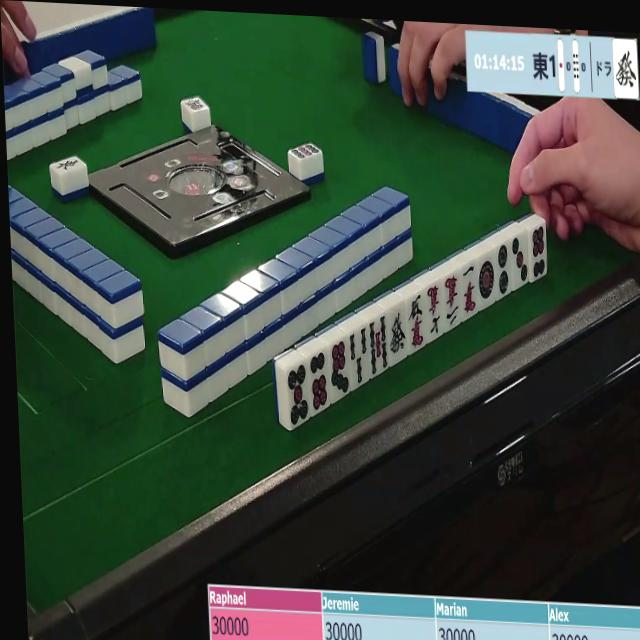fa: (614, 41, 639, 99), (385, 305, 407, 361)
m1: (460, 263, 481, 320)
m2: (440, 273, 462, 330)
m5: (408, 292, 430, 352)
m7: (424, 281, 445, 340)
s3: (348, 327, 371, 390)
s5: (364, 313, 390, 378)
t1: (476, 254, 497, 309)
t2: (494, 241, 513, 299)
t3: (511, 233, 531, 289)
t5: (285, 362, 312, 431)
t6: (305, 348, 332, 415), (529, 222, 549, 283)
t7: (328, 338, 353, 400)
